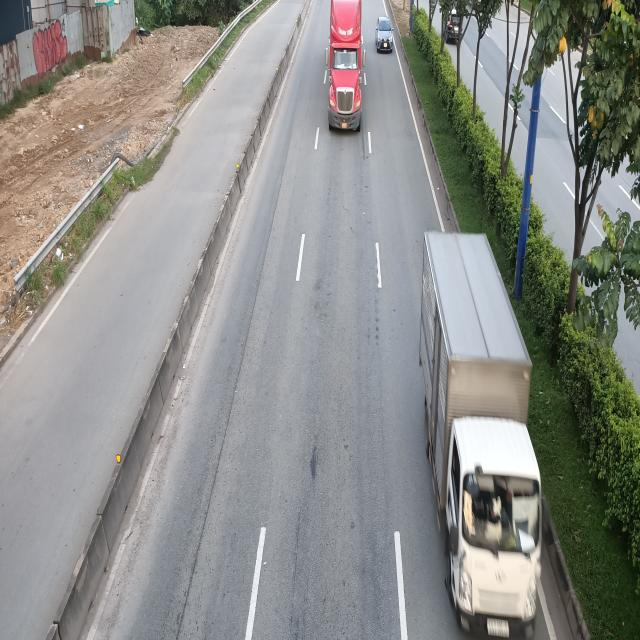car: (376, 16, 394, 53)
container: (326, 1, 367, 133)
truck: (421, 231, 548, 640)
